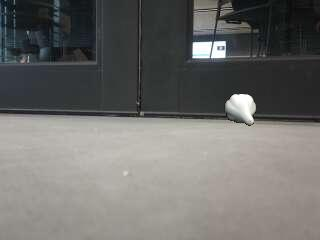Garlic: (225, 93, 258, 127)
